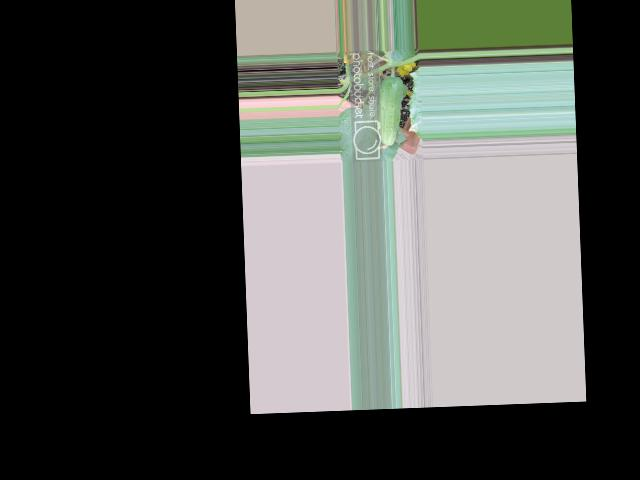cucumber: (375, 77, 405, 147)
